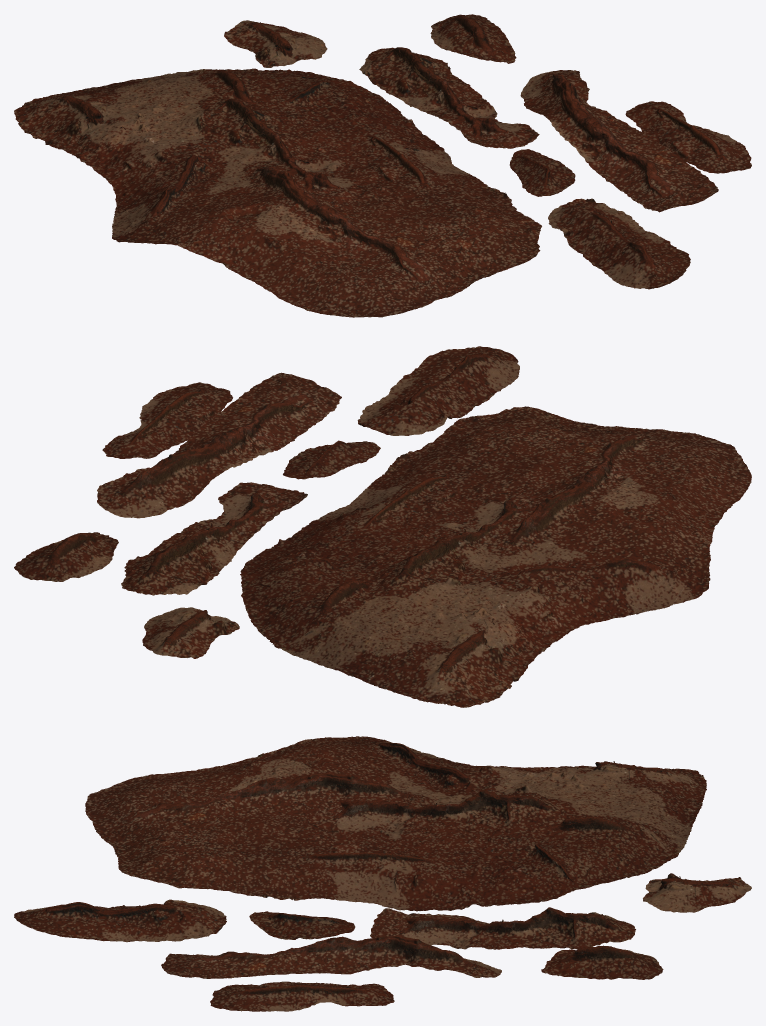
Rendered from root_cluster_02.glb.
3 renders of one model, top to bottom at view 1: azimuth 30°, elevation 25°; view 2: azimuth 150°, elevation 25°; view 3: azimuth 270°, elevation 25°, orthographic. The views are drawn at different scales.
Parts seen in each view (by area): view 1: root_cluster_02_a, root_cluster_02_f, root_cluster_02_d, root_cluster_02_b, root_cluster_02_g, root_cluster_02_e, root_cluster_02_h, root_cluster_02_c; view 2: root_cluster_02_a, root_cluster_02_f, root_cluster_02_d, root_cluster_02_b, root_cluster_02_g, root_cluster_02_h, root_cluster_02_e, root_cluster_02_c; view 3: root_cluster_02_a, root_cluster_02_f, root_cluster_02_d, root_cluster_02_b, root_cluster_02_g, root_cluster_02_h, root_cluster_02_e, root_cluster_02_c.
Part boxes in pixels (x1,y1,x2,y2): root_cluster_02_a: (14,68,541,317); root_cluster_02_f: (520,70,718,212); root_cluster_02_d: (359,47,539,148); root_cluster_02_b: (548,198,690,289); root_cluster_02_g: (625,101,751,173); root_cluster_02_e: (224,20,327,67); root_cluster_02_h: (430,14,516,63); root_cluster_02_c: (509,149,575,196); root_cluster_02_a: (240,406,751,707); root_cluster_02_f: (97,372,341,518); root_cluster_02_d: (121,482,307,595); root_cluster_02_b: (357,346,519,435); root_cluster_02_g: (102,382,232,458); root_cluster_02_h: (14,532,118,581); root_cluster_02_e: (142,607,239,658); root_cluster_02_c: (283,440,380,479); root_cluster_02_a: (85,736,706,911); root_cluster_02_f: (161,934,501,978); root_cluster_02_d: (370,907,635,949); root_cluster_02_b: (14,899,226,942); root_cluster_02_g: (210,981,394,1011); root_cluster_02_h: (541,945,663,979); root_cluster_02_e: (643,873,751,912); root_cluster_02_c: (249,911,355,939).
Bounding box in the file's own units: 2.38 × 0.1986 × 2.71.
1 material, 1 textured.
